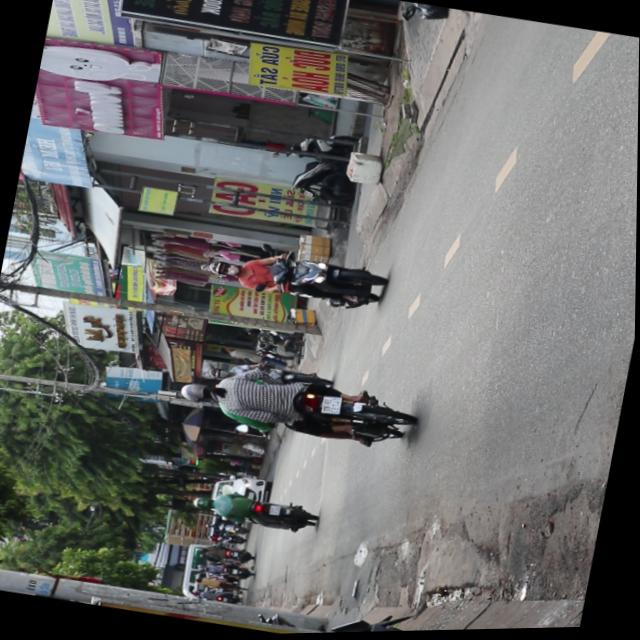helmet: (177, 379, 218, 405), (204, 257, 240, 280)
licenseplate: (172, 351, 420, 460), (200, 236, 390, 320)
nohelmet: (320, 395, 342, 416)
